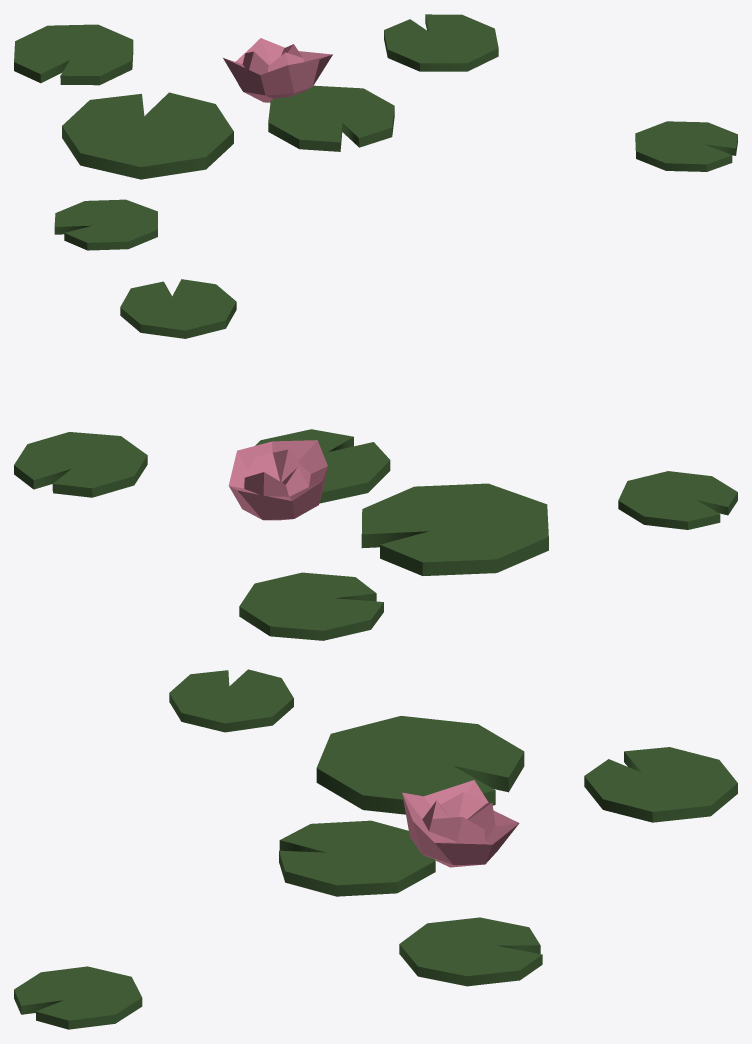
Rendered from Lily pads.FBX.
3 views of the same model, one above another, from view 1: azimuth 30°, elevation 25°; view 2: azimuth 150°, elevation 25°; view 3: azimuth 270°, elevation 25° (orthographic). The views are drawn at different scales.
Visible parts, largest first — view 1: Lily pads; view 2: Lily pads; view 3: Lily pads.
Boxes of the visible parts, left/top/right/bottom form: Lily pads: left=14, top=14, right=737, bottom=250; Lily pads: left=14, top=279, right=737, bottom=640; Lily pads: left=14, top=669, right=737, bottom=1029.
Bounding box in the file's own units: 163 × 14.08 × 142.
1 material, 1 textured.
